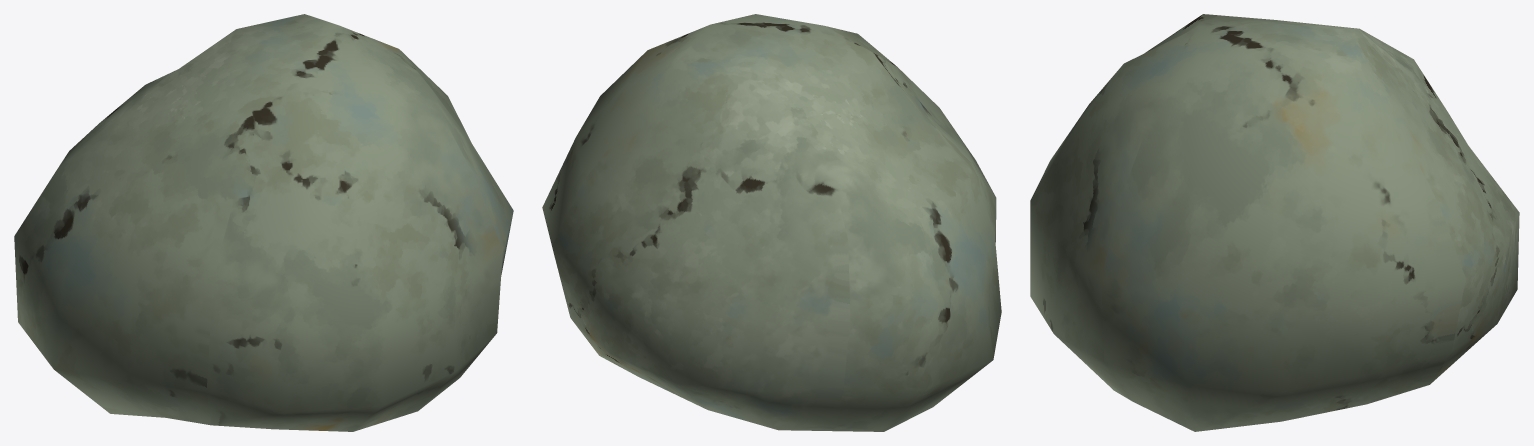
Rendered from Rock2_Mid.fbx.
3 views of the same model, side by side, from view 1: azimuth 30°, elevation 25°; view 2: azimuth 150°, elevation 25°; view 3: azimuth 270°, elevation 25° (orthographic). The views are drawn at different scales.
Visible parts, largest first — view 1: Rock2_High.001; view 2: Rock2_High.001; view 3: Rock2_High.001.
Part boxes in pixels (x1,y1,x2,y2): Rock2_High.001: [14, 14, 513, 431]; Rock2_High.001: [542, 14, 1001, 431]; Rock2_High.001: [1030, 14, 1519, 431].
Size of the model in its own units: 165 by 132 by 161.
